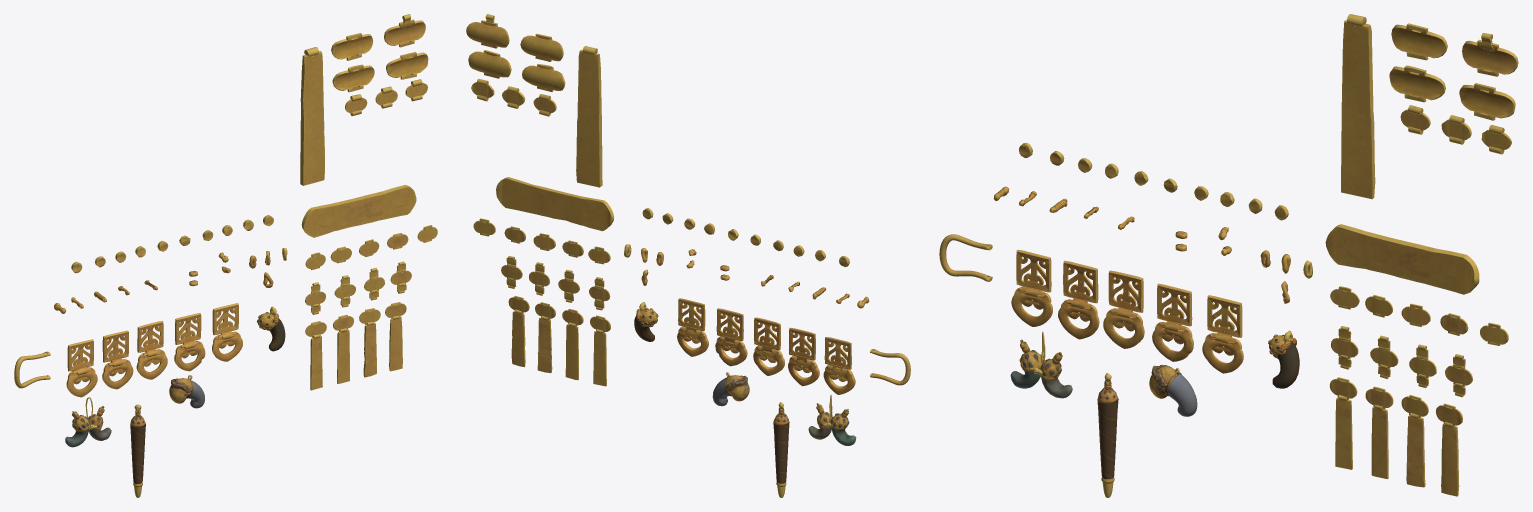
The model's file is belt-v1.glb.
3 renders of one model, left to right at view 1: azimuth 30°, elevation 25°; view 2: azimuth 150°, elevation 25°; view 3: azimuth 330°, elevation 25°, orthographic. The views are drawn at different scales.
Visible parts, largest first — view 1: BakeSet_14_Cage, BakeSet_13_Cage, BakeSet_2_Cage, BakeSet_4_Cage, BakeSet_18_Cage, BakeSet_15_Cage, BakeSet_1_Cage, BakeSet_17_Cage, BakeSet_9_Cage, BakeSet_10_Cage, BakeSet_16_Cage, BakeSet_11_Cage (+1 smaller); view 2: BakeSet_14_Cage, BakeSet_13_Cage, BakeSet_2_Cage, BakeSet_4_Cage, BakeSet_18_Cage, BakeSet_15_Cage, BakeSet_1_Cage, BakeSet_17_Cage, BakeSet_9_Cage, BakeSet_10_Cage, BakeSet_16_Cage, BakeSet_11_Cage (+1 smaller); view 3: BakeSet_14_Cage, BakeSet_13_Cage, BakeSet_2_Cage, BakeSet_4_Cage, BakeSet_18_Cage, BakeSet_15_Cage, BakeSet_1_Cage, BakeSet_17_Cage, BakeSet_10_Cage, BakeSet_9_Cage, BakeSet_16_Cage, BakeSet_11_Cage (+1 smaller).
Boxes of the visible parts, <box> form: BakeSet_14_Cage: <box>300,47,416,237</box>; BakeSet_13_Cage: <box>331,19,428,116</box>; BakeSet_2_Cage: <box>67,303,238,375</box>; BakeSet_4_Cage: <box>66,331,242,397</box>; BakeSet_18_Cage: <box>310,315,402,390</box>; BakeSet_15_Cage: <box>305,225,437,306</box>; BakeSet_1_Cage: <box>54,215,287,429</box>; BakeSet_17_Cage: <box>305,302,406,337</box>; BakeSet_9_Cage: <box>130,423,145,497</box>; BakeSet_10_Cage: <box>169,378,204,408</box>; BakeSet_16_Cage: <box>311,261,406,314</box>; BakeSet_11_Cage: <box>257,312,285,351</box>; BakeSet_14_Cage: <box>496,46,614,231</box>; BakeSet_13_Cage: <box>466,20,565,116</box>; BakeSet_2_Cage: <box>678,298,851,370</box>; BakeSet_4_Cage: <box>677,326,855,394</box>; BakeSet_18_Cage: <box>511,309,606,386</box>; BakeSet_15_Cage: <box>473,218,610,302</box>; BakeSet_1_Cage: <box>624,208,869,427</box>; BakeSet_17_Cage: <box>508,296,610,332</box>; BakeSet_9_Cage: <box>773,421,789,497</box>; BakeSet_10_Cage: <box>712,375,749,406</box>; BakeSet_16_Cage: <box>506,256,604,310</box>; BakeSet_11_Cage: <box>634,308,658,341</box>; BakeSet_14_Cage: <box>1325,14,1479,294</box>; BakeSet_13_Cage: <box>1389,23,1518,154</box>; BakeSet_2_Cage: <box>1016,249,1242,343</box>; BakeSet_4_Cage: <box>1011,286,1243,373</box>; BakeSet_18_Cage: <box>1335,395,1459,496</box>; BakeSet_15_Cage: <box>1330,286,1508,386</box>; BakeSet_1_Cage: <box>993,142,1312,381</box>; BakeSet_17_Cage: <box>1329,377,1462,426</box>; BakeSet_10_Cage: <box>1149,364,1197,416</box>; BakeSet_9_Cage: <box>1097,398,1118,497</box>; BakeSet_16_Cage: <box>1338,326,1465,397</box>; BakeSet_11_Cage: <box>1268,334,1299,388</box>.
Bounding box in the file's own units: 2.17 × 2 × 0.1531.
Materials: 21 (21 with a texture image).
